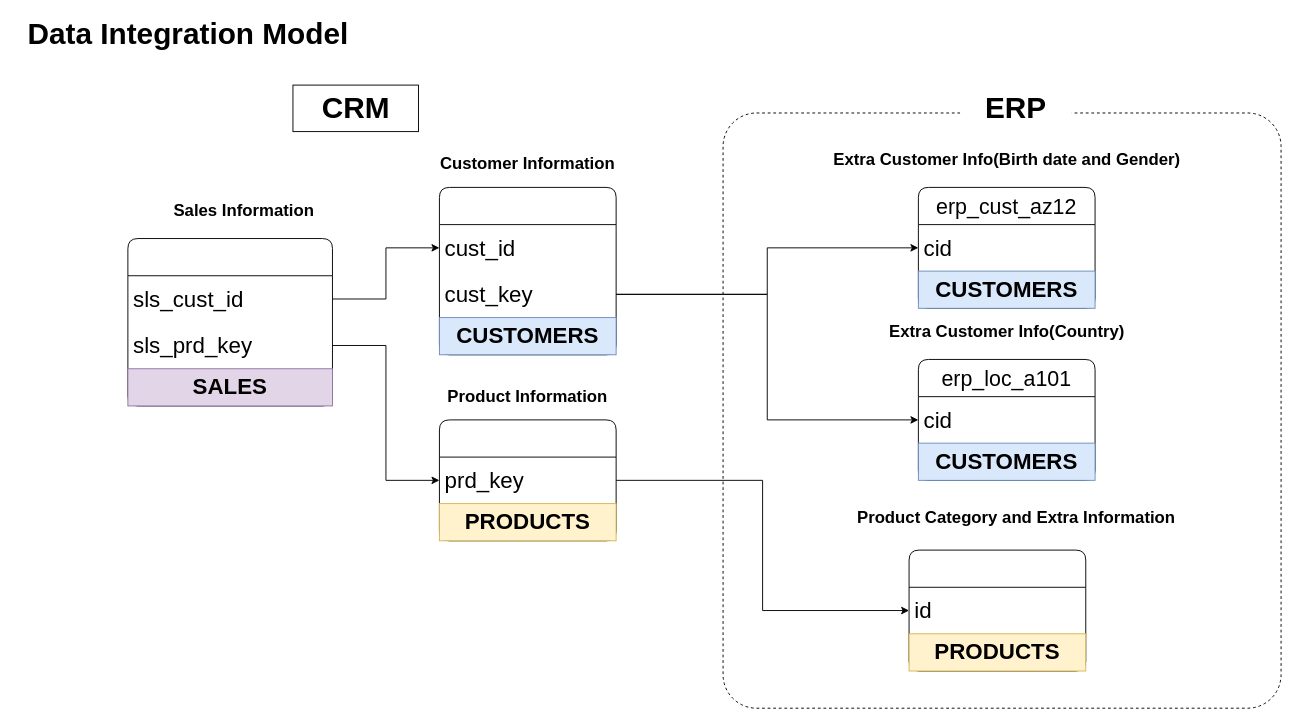
Image size: 1297x724. Some labels were removed from this diagram. Here are the shapes that lost their labels. From the top down, the box of each, then its label:
(438, 186, 616, 355): crm_cust_info
(127, 238, 332, 406): crm_sales_details
(438, 419, 616, 541): crm_prd_info
(908, 549, 1086, 671): erp_px_cat_g1v2
